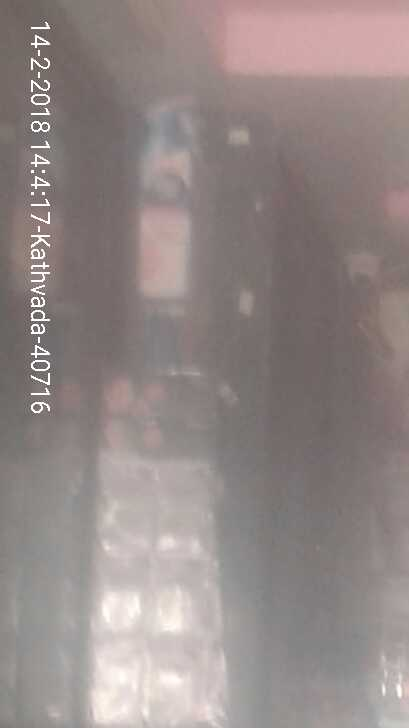reject: (261, 363, 340, 447)
